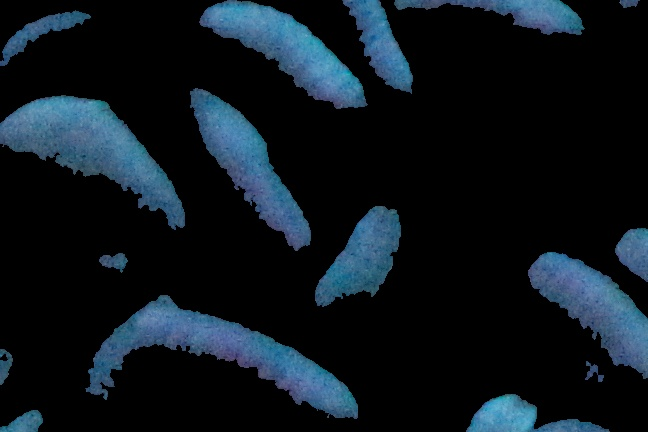larvae: (3, 93, 185, 253), (130, 308, 363, 427), (172, 91, 308, 265), (196, 8, 372, 129), (294, 200, 403, 353), (387, 1, 594, 67), (532, 256, 648, 369), (70, 291, 184, 398), (325, 1, 420, 105), (1, 4, 114, 66), (461, 390, 547, 432)
